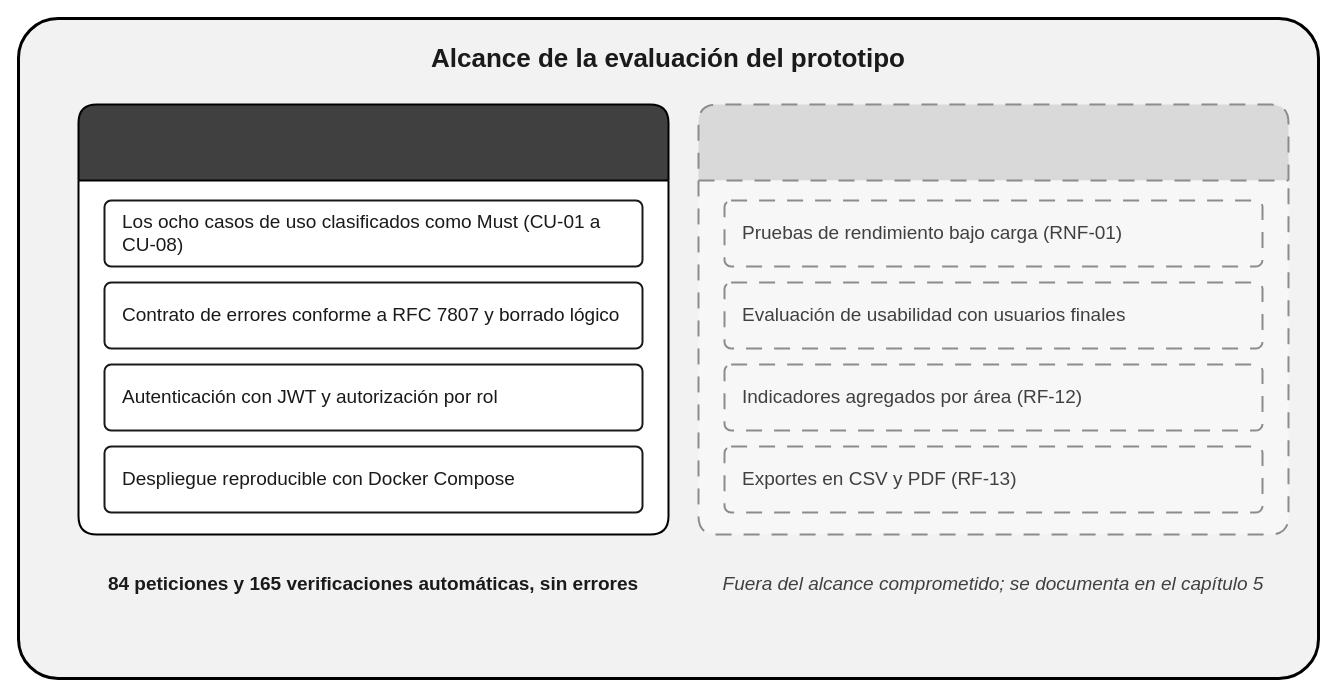
Some shapes in this 1337 by 697 pixel diagram are drawn without their labels. The shapes that lost their labels are listed below. From the top down, each one's box as (x1, y1, x2, y2) in pixels, then its label:
(77, 103, 669, 535): Verificado
(697, 103, 1289, 535): Diferido a trabajo futuro
